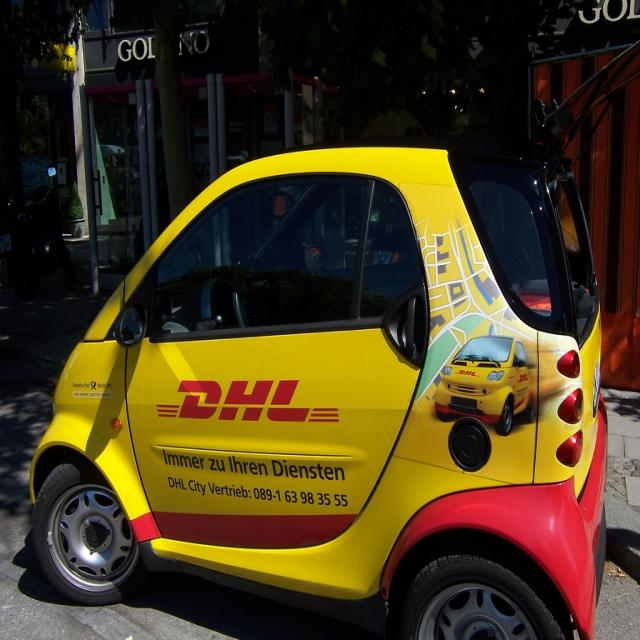dhl: (142, 365, 351, 437)
